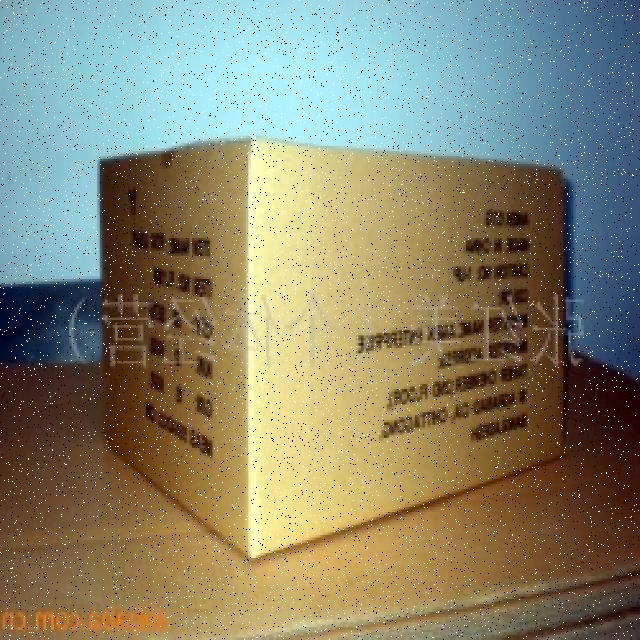box: (84, 118, 566, 570)
